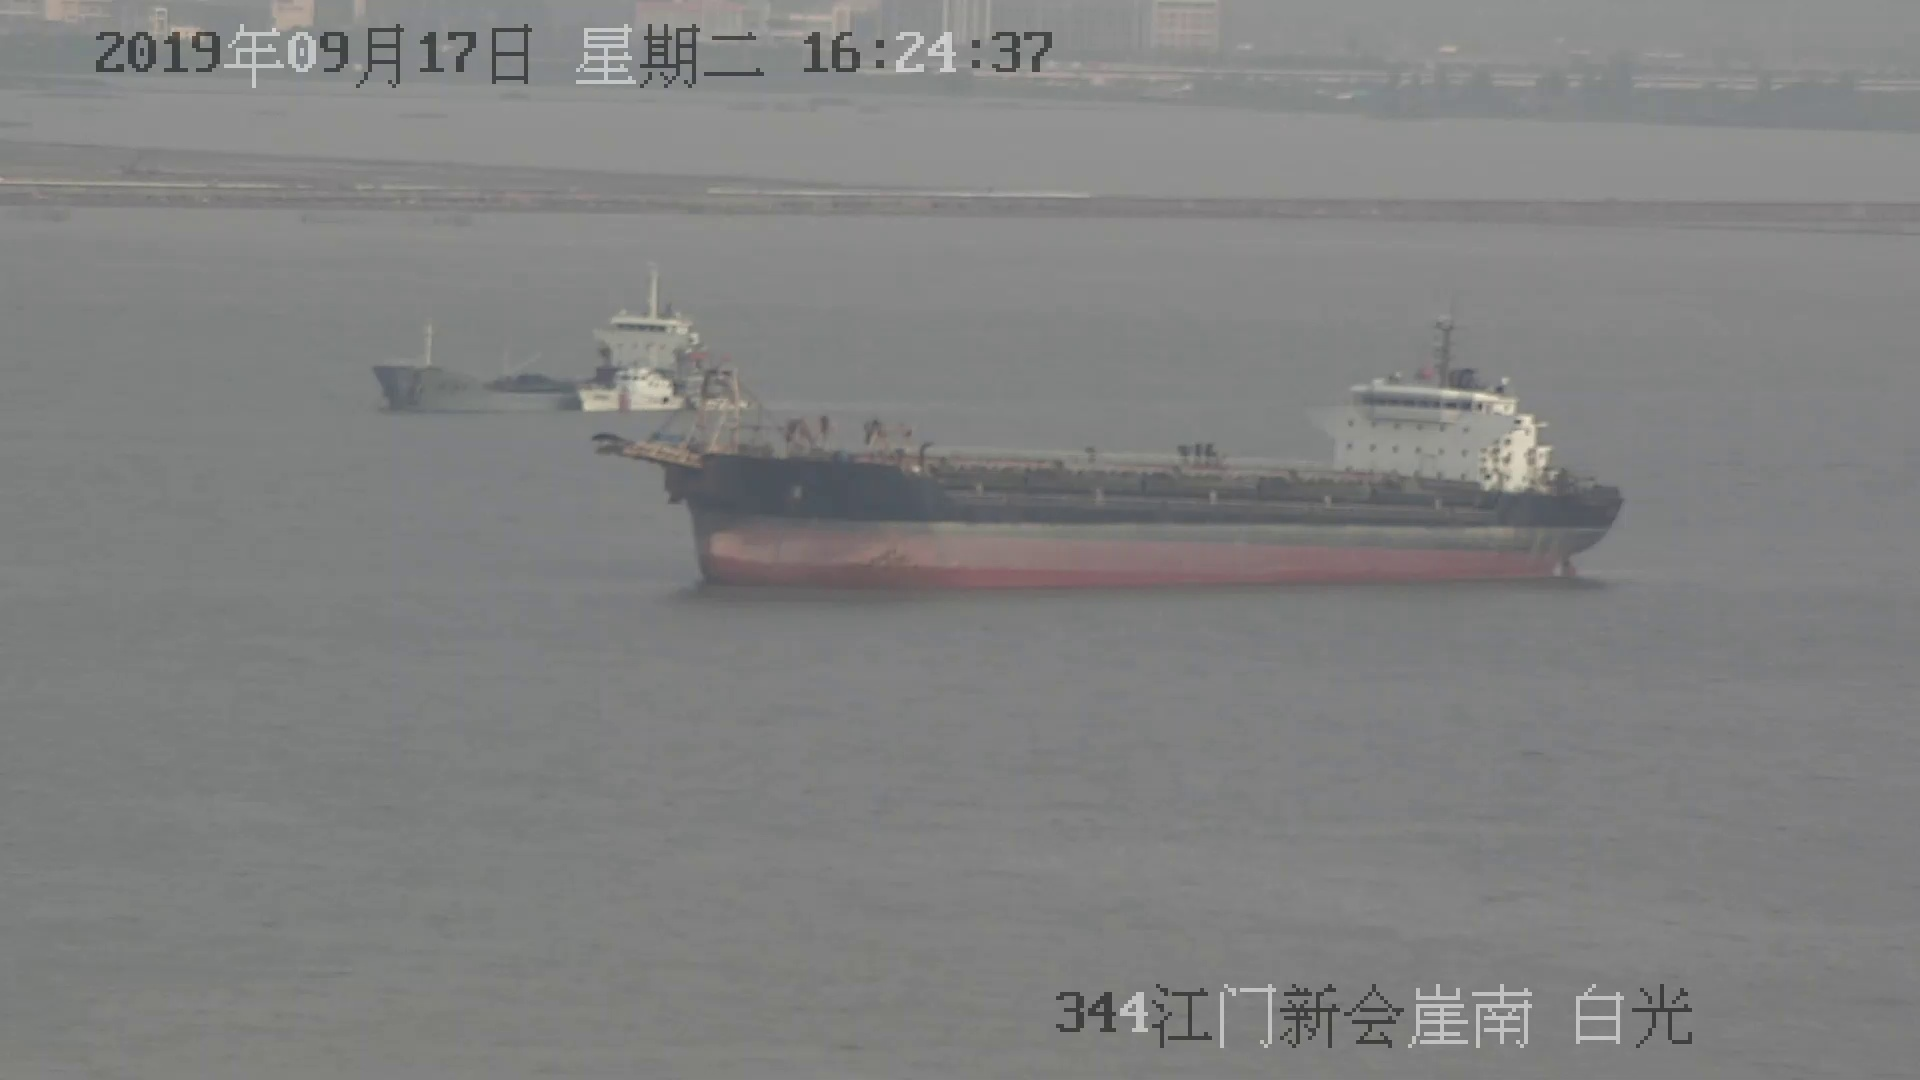ship: (601, 299, 1622, 593), (371, 256, 733, 419)
